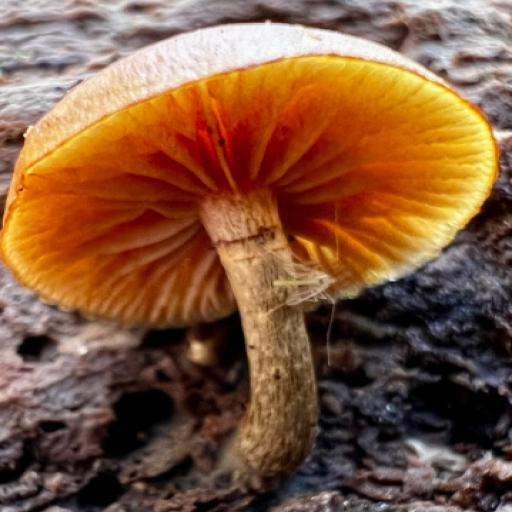mushroom: (5, 17, 505, 386)
